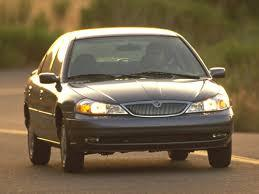Mercury: (151, 98, 166, 111)
